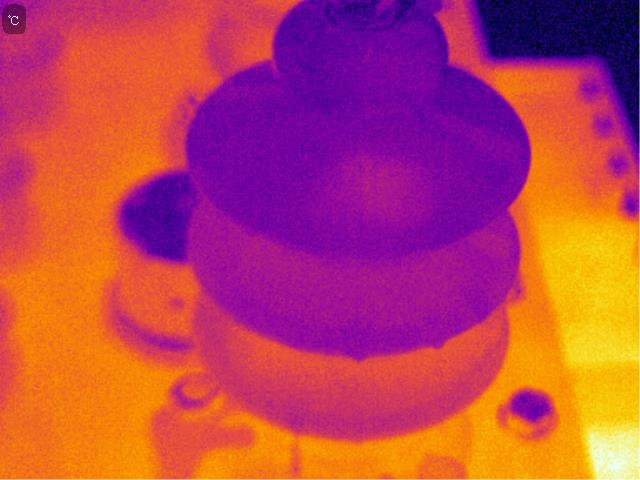Oil: (308, 151, 441, 232), (232, 59, 298, 114), (347, 346, 371, 364), (429, 338, 447, 350)
